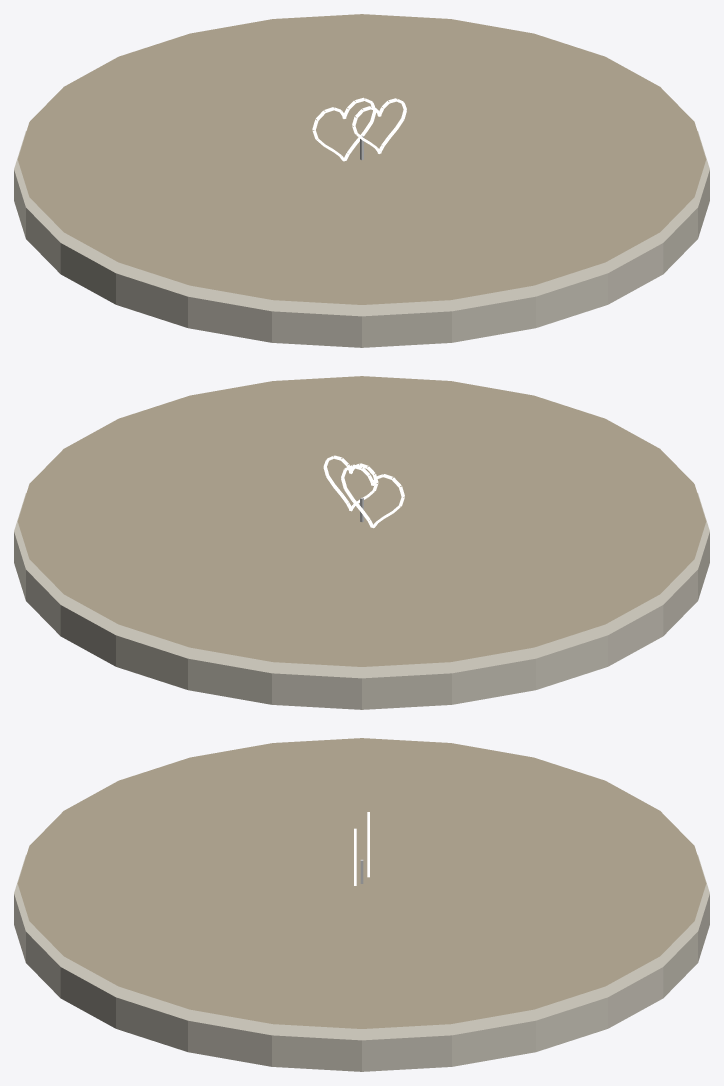
Rendered from rb_hearts.glb.
The picture shows the model from 3 angles, top to bottom: view 1: azimuth 30°, elevation 25°; view 2: azimuth 150°, elevation 25°; view 3: azimuth 270°, elevation 25°; orthographic projection.
Visible parts, largest first — view 1: rb_hearts_lod0; view 2: rb_hearts_lod0; view 3: rb_hearts_lod0.
Boxes of the visible parts, x1=… form: rb_hearts_lod0: x1=14, y1=14, x2=709, y2=347; rb_hearts_lod0: x1=14, y1=376, x2=709, y2=709; rb_hearts_lod0: x1=14, y1=738, x2=709, y2=1071.
Size of what is drawn, in the model's own units: 38 by 5.96 by 38.
